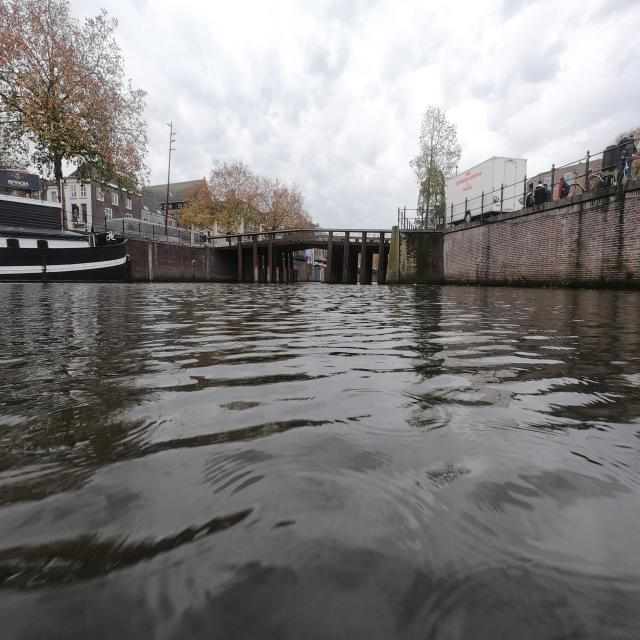boat: (0, 238, 136, 278)
sky: (68, 4, 636, 224)
tree: (0, 2, 144, 198), (200, 160, 316, 232), (410, 105, 462, 213)
wall: (446, 190, 638, 286), (452, 190, 638, 286), (148, 242, 238, 282), (394, 232, 446, 282)
water: (6, 290, 638, 634)
